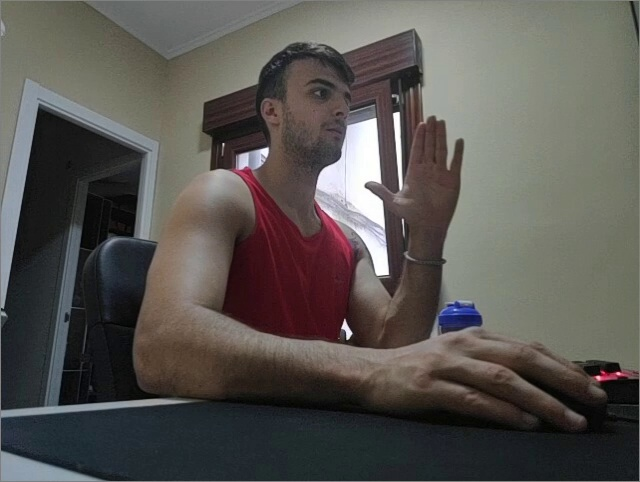Palm: (365, 115, 466, 240)
